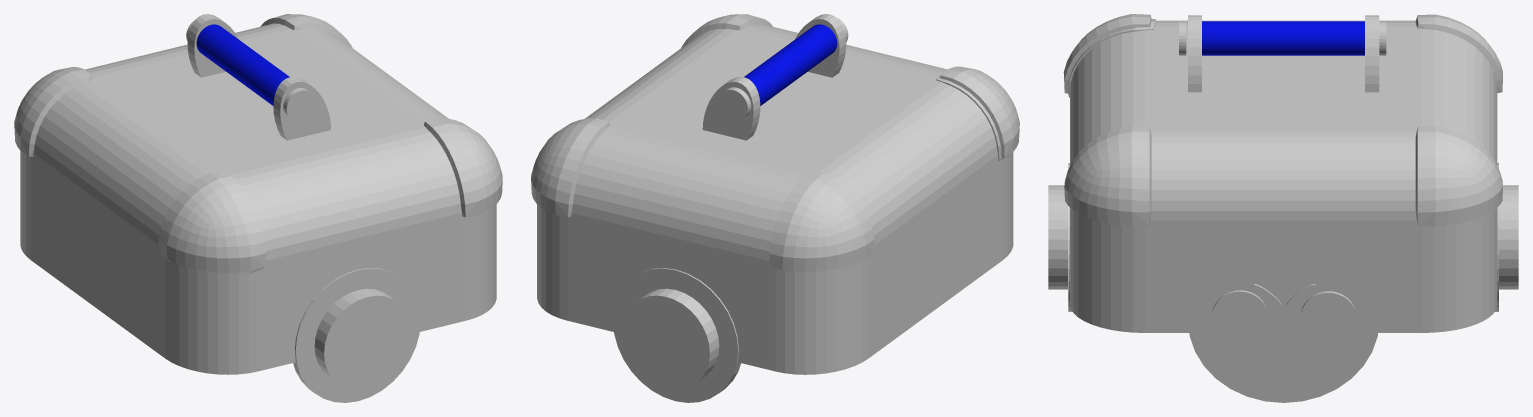
File: bs_megacaja_arriba.obj
3 views of the same model, side by side, from view 1: azimuth 30°, elevation 25°; view 2: azimuth 150°, elevation 25°; view 3: azimuth 270°, elevation 25° (orthographic). The views are drawn at different scales.
Visible parts, largest first — view 1: Cubo.001_Material.002, Cubo.001_Material.006, Cubo.001_Material.008, Cubo.001_Material.004, Cubo.001_Material.021, Cubo.001_Material.018, Cubo.001_Material.014, Cubo.001_Material.013; view 2: Cubo.001_Material.002, Cubo.001_Material.006, Cubo.001_Material.007, Cubo.001_Material.003, Cubo.001_Material.021, Cubo.001_Material.014, Cubo.001_Material.018, Cubo.001_Material.020; view 3: Cubo.001_Material.002, Cubo.001_Material.006, Cubo.001_Material.011, Cubo.001_Material.021, Cubo.001_Material.019, Cubo.001_Material.017, Cubo.001_Material.008, Cubo.001_Material.007, Cubo.001_Material.014, Cubo.001_Material.018.
Boxes of the visible parts, x1=… form: Cubo.001_Material.002: x1=20, y1=23, x2=496, y2=374; Cubo.001_Material.006: x1=14, y1=14, x2=502, y2=275; Cubo.001_Material.008: x1=314, y1=288, x2=411, y2=389; Cubo.001_Material.004: x1=293, y1=268, x2=420, y2=402; Cubo.001_Material.021: x1=196, y1=24, x2=289, y2=105; Cubo.001_Material.018: x1=273, y1=77, x2=330, y2=140; Cubo.001_Material.014: x1=187, y1=14, x2=238, y2=77; Cubo.001_Material.013: x1=283, y1=88, x2=315, y2=121; Cubo.001_Material.002: x1=537, y1=23, x2=1013, y2=374; Cubo.001_Material.006: x1=531, y1=14, x2=1019, y2=271; Cubo.001_Material.007: x1=622, y1=288, x2=719, y2=389; Cubo.001_Material.003: x1=613, y1=268, x2=740, y2=402; Cubo.001_Material.021: x1=744, y1=24, x2=837, y2=105; Cubo.001_Material.014: x1=702, y1=77, x2=760, y2=140; Cubo.001_Material.018: x1=795, y1=14, x2=846, y2=77; Cubo.001_Material.020: x1=719, y1=87, x2=751, y2=120; Cubo.001_Material.002: x1=1070, y1=20, x2=1497, y2=332; Cubo.001_Material.006: x1=1063, y1=14, x2=1502, y2=226; Cubo.001_Material.011: x1=1189, y1=333, x2=1377, y2=402; Cubo.001_Material.021: x1=1202, y1=21, x2=1364, y2=55; Cubo.001_Material.019: x1=1300, y1=291, x2=1356, y2=343; Cubo.001_Material.017: x1=1212, y1=290, x2=1267, y2=342; Cubo.001_Material.008: x1=1048, y1=185, x2=1067, y2=289; Cubo.001_Material.007: x1=1499, y1=185, x2=1518, y2=289; Cubo.001_Material.014: x1=1365, y1=15, x2=1379, y2=92; Cubo.001_Material.018: x1=1188, y1=15, x2=1201, y2=92.
Bounding box in the file's own units: 2.11 × 1.78 × 2.52.
